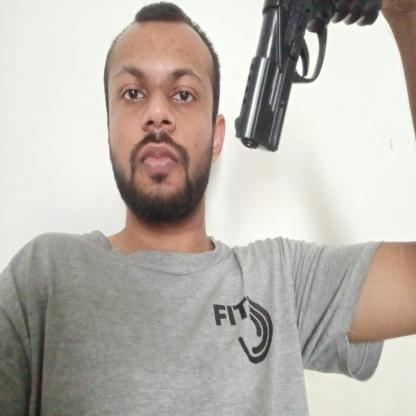handgun: (234, 0, 385, 153)
